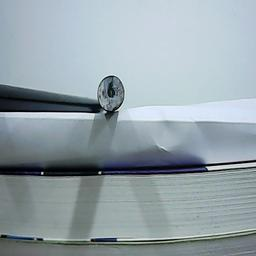pen: (96, 75, 125, 110)
